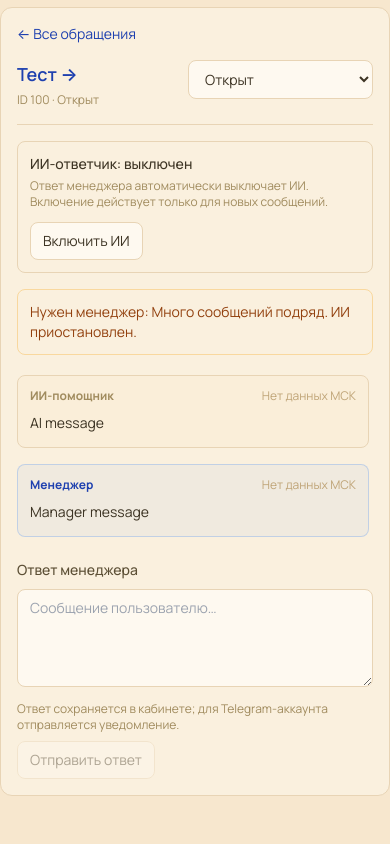
Test: ArcVPN operator views › preserves a failed reply and distinguishes AI from manager messages
(page scrolled)
Expected: the text "ИИ-помощник" is shown, [30,388,114,404]
Expected: the text "Менеджер" is shown, [30,477,93,493]
Type "Проверяем проблему" into the text box labelled "Ответ менеджера" at (195, 638), box [17,588,373,686]
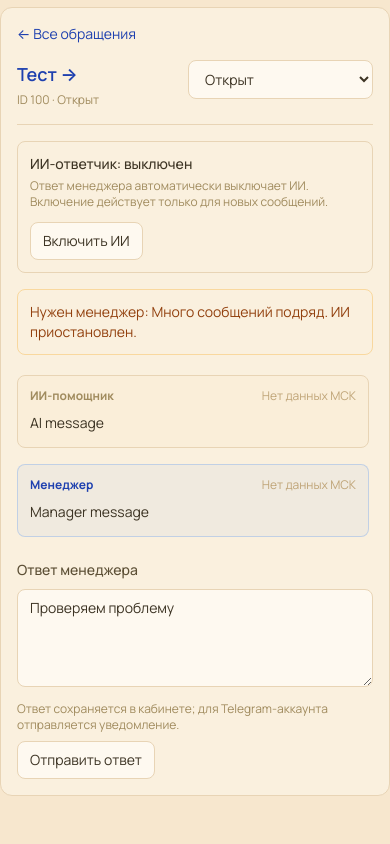
Click the button "Отправить ответ" at (86, 760), box [17,740,155,778]
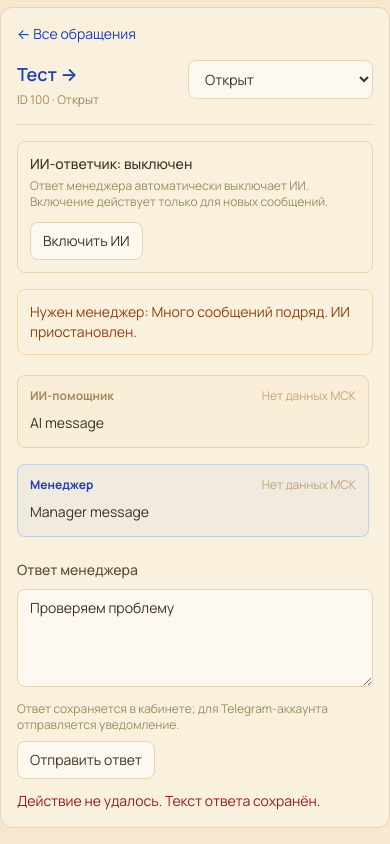
Result: the message "Действие не удалось. Текст ответа сохранён." is shown at [17,790,373,810]
